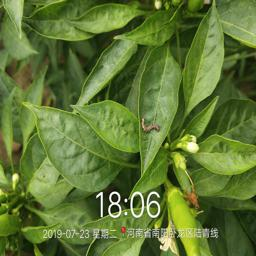Tobacco_budworm: (141, 117, 160, 134)
